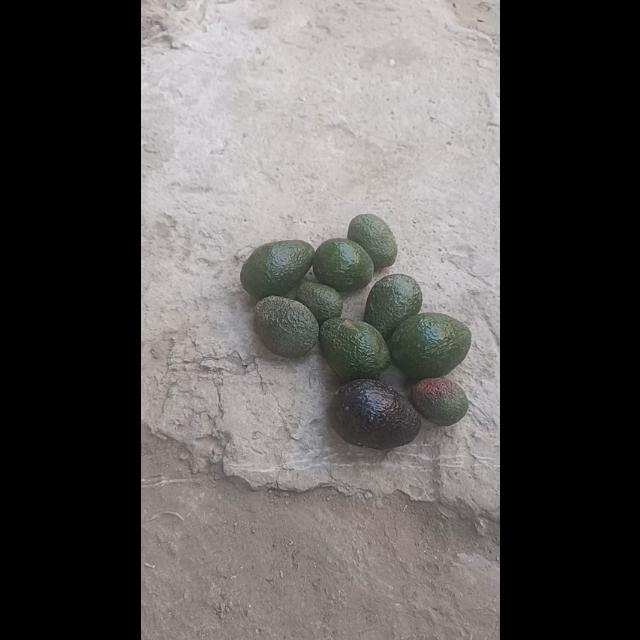Primera: (329, 376, 419, 446), (388, 312, 472, 380), (318, 318, 390, 380), (239, 240, 313, 298), (252, 295, 318, 357), (363, 274, 422, 338)
Segunda: (312, 238, 374, 292), (347, 212, 397, 270)
Tercera: (408, 376, 468, 426), (294, 280, 342, 326)
